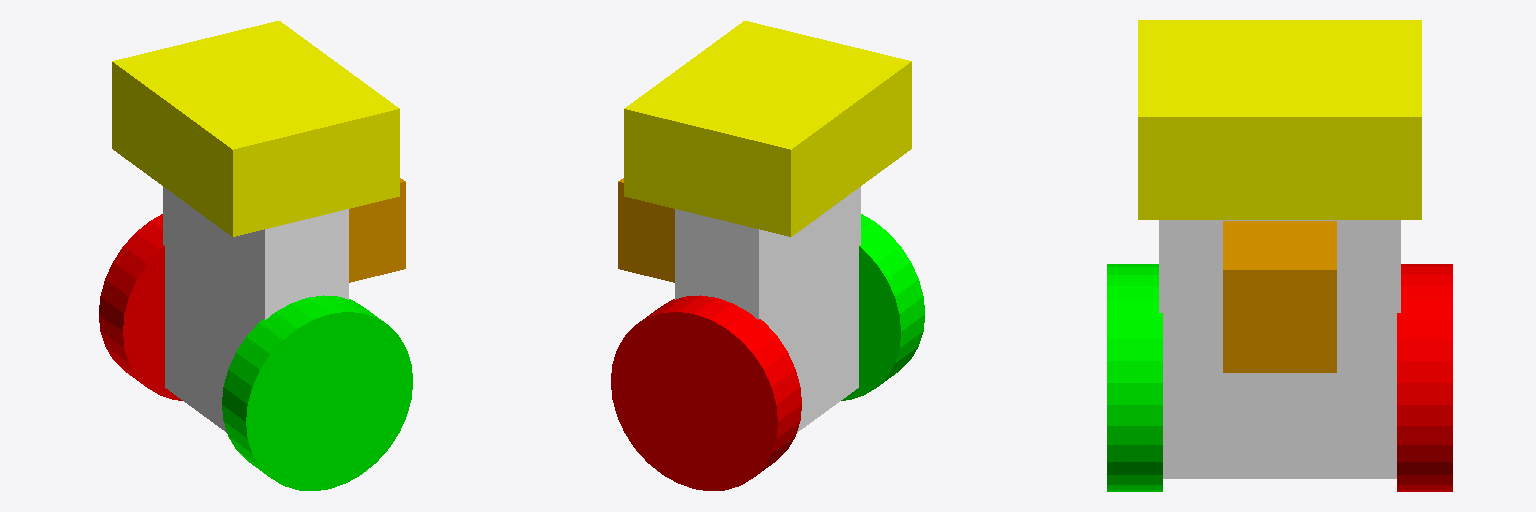
URDF robot description (physics):
<?xml version="1.0" ?><robot name="physics">

    <link name="baseLink">
        <contact>
          <lateral_friction value="100.0"/>
          <inertia_scaling value="1.0"/>
        </contact>
        <inertial>
            <origin rpy="0 0 0" xyz="0.003, 0, 0.033745470561791696"/>
            <mass value=".31"/>
            <inertia ixx="0.0003" ixy="0" ixz="0" iyy="0.0003" iyz="0" izz="0.00015"/>
        </inertial>
        <visual>
            <origin rpy="0 0 0" xyz="0 0 0.025"/>
            <geometry>
                <box size="0.04 0.085 0.11"/>
            </geometry>
            <material name="white">
                <color rgba="1 1 1 1"/>
            </material>
        </visual>
        <visual>
            <origin rpy="0 0 0" xyz="0 0 0.1"/>
            <geometry>
                <box size="0.08 0.1 0.04"/>
            </geometry>
            <material name="yellow">
                <color rgba="1 1 0 1"/>
            </material>
        </visual>
        <visual>
            <origin rpy="0 0 0" xyz="0.04 0 0.05"/>
            <geometry>
                <box size="0.04 0.04 0.04"/>
            </geometry>
        </visual>
        <collision>
            <origin rpy="0 0 0" xyz="0 0 0.1"/>
            <geometry>
                <box size="0.08 0.1 0.04"/>
            </geometry>
        </collision>
    </link>

    <link name="wheel_left">
        <inertial>
            <origin rpy="0 0 0" xyz="0 0 0"/>
            <mass value=".01"/>
            <inertia ixx="0.00012" ixy="0" ixz="0" iyy="0.00012" iyz="0" izz="0.00012"/>
        </inertial>
        <visual>
          <origin rpy="0 0 0" xyz="0 0 0"/>
          <geometry>
                    <cylinder length="0.02" radius="0.04"/>
          </geometry>
           <material name="red">
            <color rgba="1 0 0 1"/>
          </material>
        </visual>
        <collision>
          <origin rpy="0 0 0" xyz="0 0 0"/>
          <geometry>
            <cylinder length="0.02" radius="0.04"/>
          </geometry>
        </collision>
    </link>

    <joint name="wheel_left_joint" type="continuous">
        <origin rpy="1.5708 0 0" xyz="0 0.051 0"/>
        <parent link="baseLink"/>
        <child link="wheel_left"/>
        <axis xyz="0 0 -1"/>
    </joint>

    <link name="wheel_right">
        <inertial>
            <origin rpy="0 0 0" xyz="0 0 0"/>
            <mass value=".01"/>
            <inertia ixx="0.00012" ixy="0" ixz="0" iyy="0.00012" iyz="0" izz="0.00012"/>
        </inertial>
        <visual>
          <origin rpy="0 0 0" xyz="0 0 0"/>
          <geometry>
                    <cylinder length="0.02" radius="0.04"/>
          </geometry>
           <material name="green">
            <color rgba="0 1 0 1"/>
          </material>
        </visual>
        <collision>
          <origin rpy="0 0 0" xyz="0 0 0"/>
          <geometry>
            <cylinder length="0.02" radius="0.04"/>
          </geometry>
        </collision>
    </link>

    <joint name="wheel_right_joint" type="continuous">
        <origin rpy="1.5708 0 0" xyz="0 -0.051 0"/>
        <parent link="baseLink"/>
        <child link="wheel_right"/>
        <axis xyz="0 0 -1"/>
    </joint>

    <joint name="accelerometer" type="continuous">
        <origin rpy="0 -1.5708 0" xyz="0 -0.01 0.07"/>
        <parent link="baseLink"/>
        <child link="accelerometer"/>
        <axis xyz="0 0 -1"/>
    </joint>

    <link name="accelerometer">
        <inertial>
            <origin rpy="0 0 0" xyz="0 0 0"/>
            <mass value=".01"/>
            <inertia ixx="0.000012" ixy="0" ixz="0" iyy="0.000012" iyz="0" izz="0.000012"/>
        </inertial>
        <visual>
          <origin rpy="0 0 0" xyz="0 0 0"/>
          <geometry>
                    <box size="0.01 0.01 0.005"/>
          </geometry>
           <material name="green">
            <color rgba="0 1 0 1"/>
          </material>
        </visual>
    </link>




</robot>

--- Facts derived from the render (not from the file) ---
Views: 3 orthographic renders of the robot side by side, from view 1: azimuth 30°, elevation 25°; view 2: azimuth 150°, elevation 25°; view 3: azimuth 270°, elevation 25°.
Model physics with 4 links and 3 joints (3 continuous), rooted at baseLink, posed every joint at zero.
Visible links, largest first — view 1: baseLink, wheel_right, wheel_left; view 2: baseLink, wheel_left, wheel_right; view 3: baseLink, wheel_left, wheel_right.
Link boxes in pixels (left/top/right/bottom): baseLink: left=112, top=21, right=405, bottom=432; wheel_right: left=222, top=295, right=412, bottom=490; wheel_left: left=99, top=214, right=182, bottom=400; baseLink: left=618, top=21, right=911, bottom=432; wheel_left: left=611, top=295, right=801, bottom=490; wheel_right: left=841, top=214, right=924, bottom=400; baseLink: left=1138, top=20, right=1421, bottom=478; wheel_left: left=1397, top=264, right=1452, bottom=491; wheel_right: left=1107, top=264, right=1162, bottom=491.
Bounding box of the posed robot: 0.1 × 0.122 × 0.16 m (x, y, z).
Geometry: primitives only (box / cylinder / sphere), no mesh files.